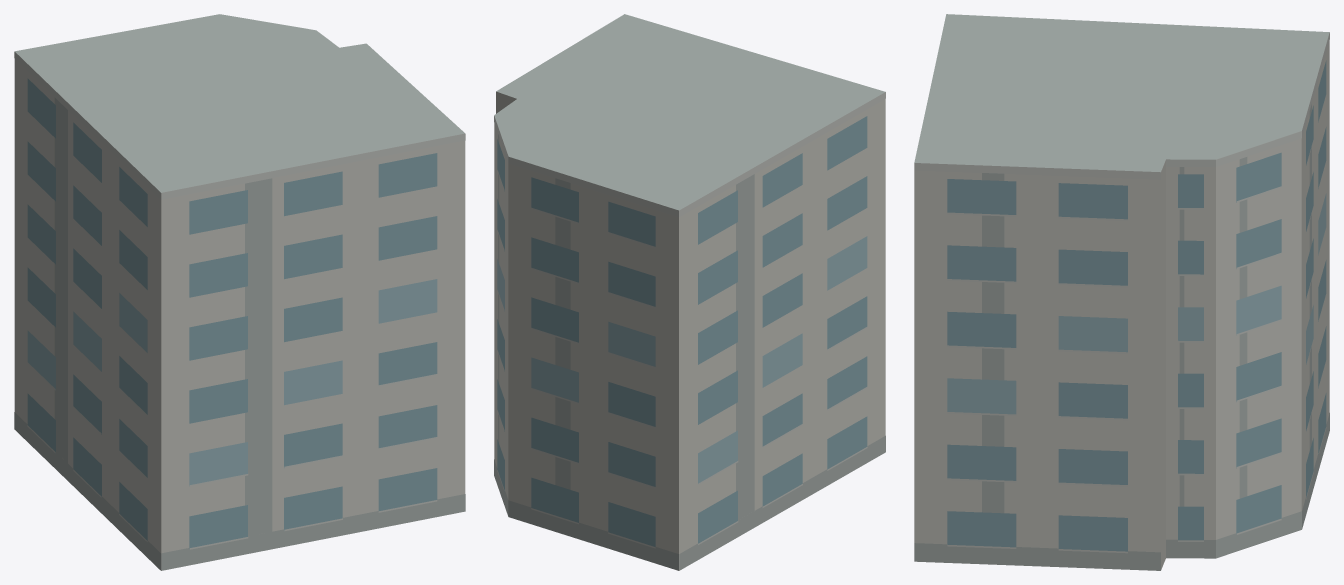
The model's file is survey-upis-32607167.glb.
The picture shows the model from 3 angles, left to right: view 1: azimuth 30°, elevation 25°; view 2: azimuth 150°, elevation 25°; view 3: azimuth 270°, elevation 25°; orthographic projection. The views are drawn at different scales.
Visible parts, largest first — view 1: survey-upis-32607167.tmp; view 2: survey-upis-32607167.tmp; view 3: survey-upis-32607167.tmp.
Part boxes in pixels (<box>): survey-upis-32607167.tmp: <box>14,14,465,570</box>; survey-upis-32607167.tmp: <box>494,14,885,570</box>; survey-upis-32607167.tmp: <box>914,14,1329,570</box>.
Size of the model in its own units: 11.07 by 13 by 12.29.
